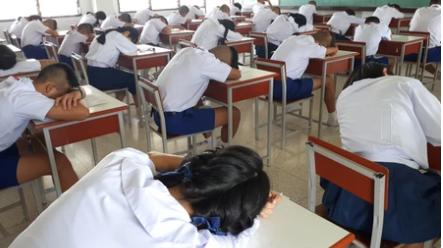sleep: (0, 145, 279, 248), (333, 60, 443, 155), (0, 63, 88, 119), (170, 42, 245, 82), (286, 26, 339, 58), (91, 23, 139, 57), (190, 17, 241, 43), (353, 17, 395, 39), (270, 12, 314, 33), (23, 19, 61, 36), (370, 3, 406, 20), (108, 11, 136, 31), (143, 13, 172, 32), (327, 9, 359, 26), (67, 23, 94, 43)
